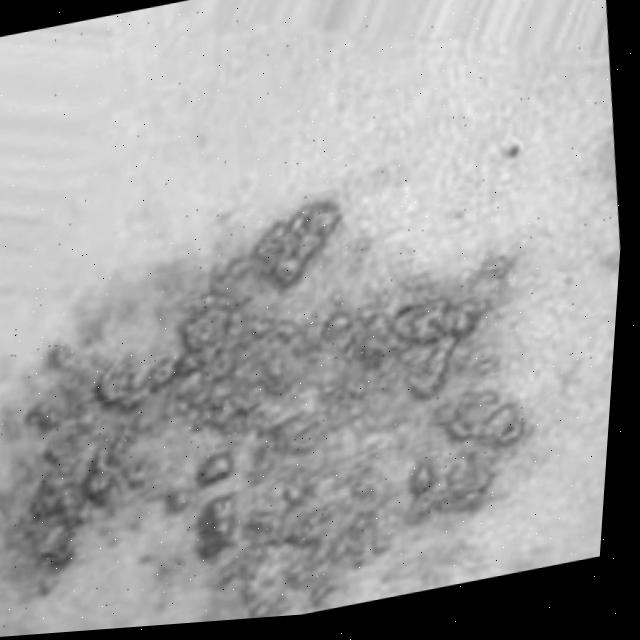Shingles: (0, 155, 563, 639)
